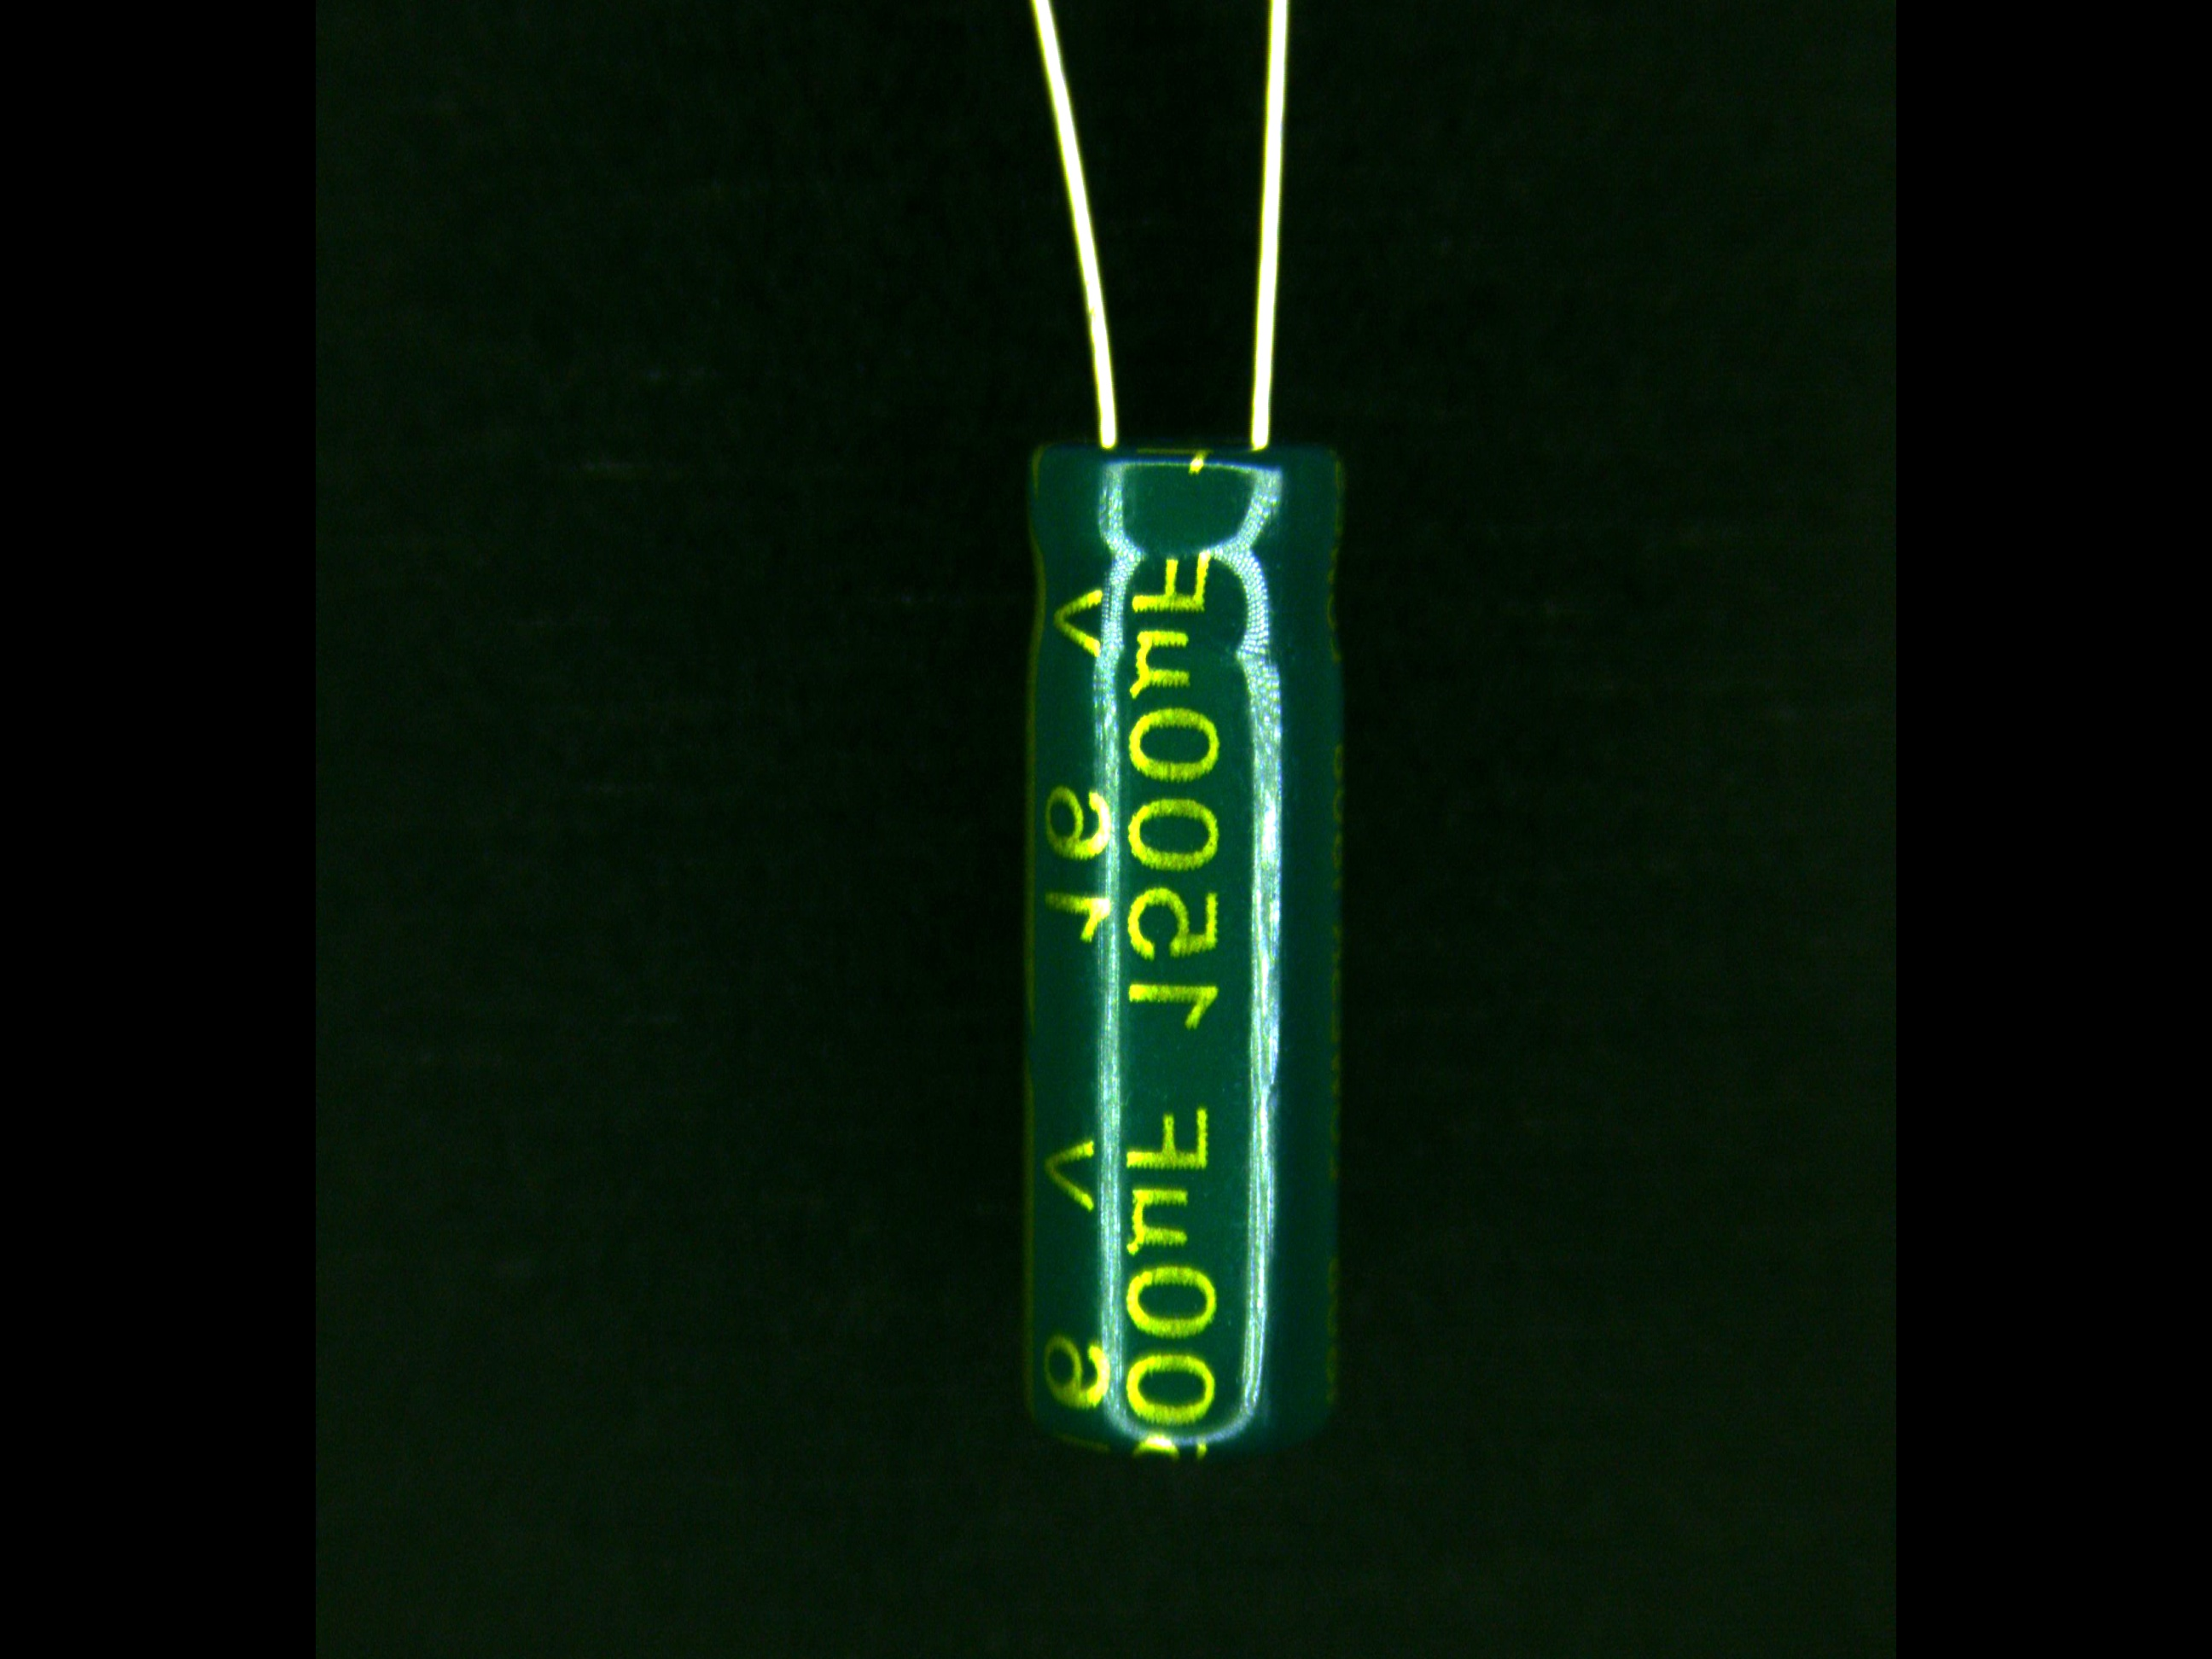c1: (1014, 291, 1353, 1467)
